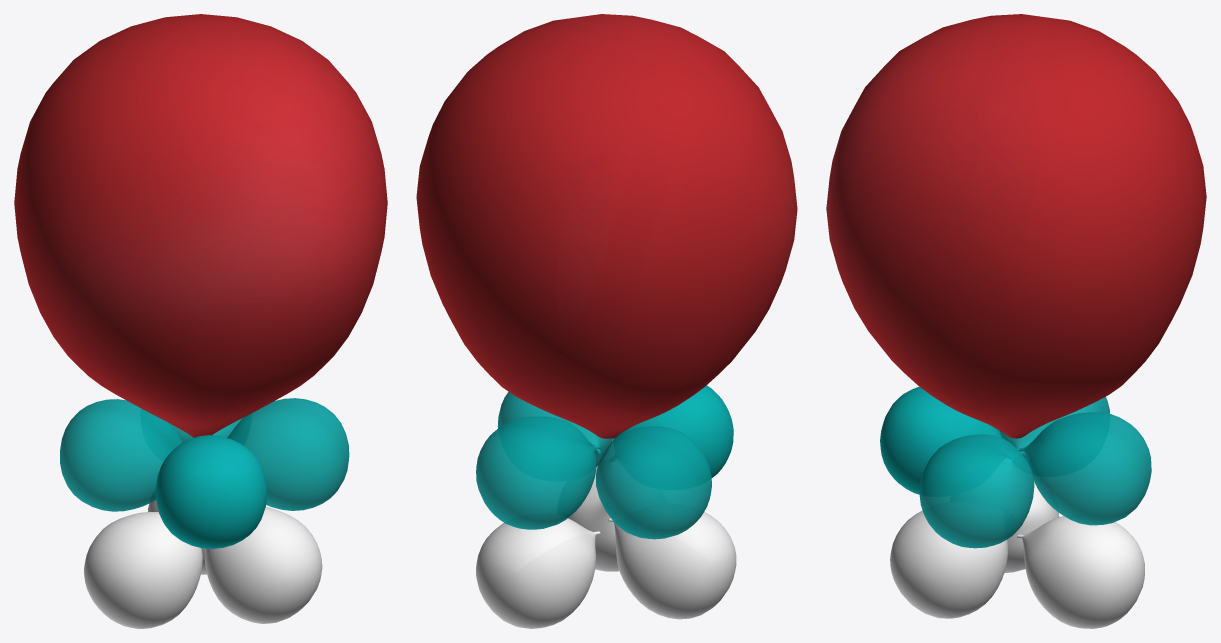
Rendered from balloon_single.fbx.
3 views of the same model, side by side, from view 1: azimuth 30°, elevation 25°; view 2: azimuth 150°, elevation 25°; view 3: azimuth 270°, elevation 25° (orthographic).
Parts seen in each view (by area): view 1: MainBalloon_2.001, MiniBalloon_5.001, MiniBalloon_1.001, MiniBalloon_2.001, MiniBalloon_10.001, MiniBalloon_4.002, MiniBalloon_11; view 2: MainBalloon_2.001, MiniBalloon_3.001, MiniBalloon_2.001, MiniBalloon_9.001, MiniBalloon_5.001, MiniBalloon_1.001, MiniBalloon_10.001, MiniBalloon_4.002, MiniBalloon_11; view 3: MainBalloon_2.001, MiniBalloon_3.001, MiniBalloon_9.001, MiniBalloon_11, MiniBalloon_4.002, MiniBalloon_1.001, MiniBalloon_10.001, MiniBalloon_5.001, MiniBalloon_2.001.
Part boxes in pixels (x1,y1,x2,y2): MainBalloon_2.001: [14, 14, 387, 437]; MiniBalloon_5.001: [84, 512, 202, 628]; MiniBalloon_1.001: [155, 435, 267, 548]; MiniBalloon_2.001: [60, 399, 182, 511]; MiniBalloon_10.001: [156, 435, 266, 548]; MiniBalloon_4.002: [204, 507, 322, 623]; MiniBalloon_11: [227, 398, 349, 510]; MainBalloon_2.001: [416, 14, 797, 438]; MiniBalloon_3.001: [476, 416, 599, 529]; MiniBalloon_2.001: [596, 426, 711, 539]; MiniBalloon_9.001: [476, 518, 600, 628]; MiniBalloon_5.001: [608, 512, 736, 619]; MiniBalloon_1.001: [613, 385, 733, 477]; MiniBalloon_10.001: [613, 386, 732, 477]; MiniBalloon_4.002: [568, 466, 619, 571]; MiniBalloon_11: [497, 392, 613, 466]; MainBalloon_2.001: [826, 14, 1206, 438]; MiniBalloon_3.001: [1018, 412, 1151, 525]; MiniBalloon_9.001: [1017, 516, 1144, 628]; MiniBalloon_11: [919, 434, 1034, 548]; MiniBalloon_4.002: [890, 510, 1007, 618]; MiniBalloon_1.001: [880, 387, 1001, 494]; MiniBalloon_10.001: [880, 387, 1001, 493]; MiniBalloon_5.001: [1004, 481, 1059, 573]; MiniBalloon_2.001: [1000, 397, 1109, 463].
Size of the model in its own units: 6.41 by 10.61 by 6.41.
